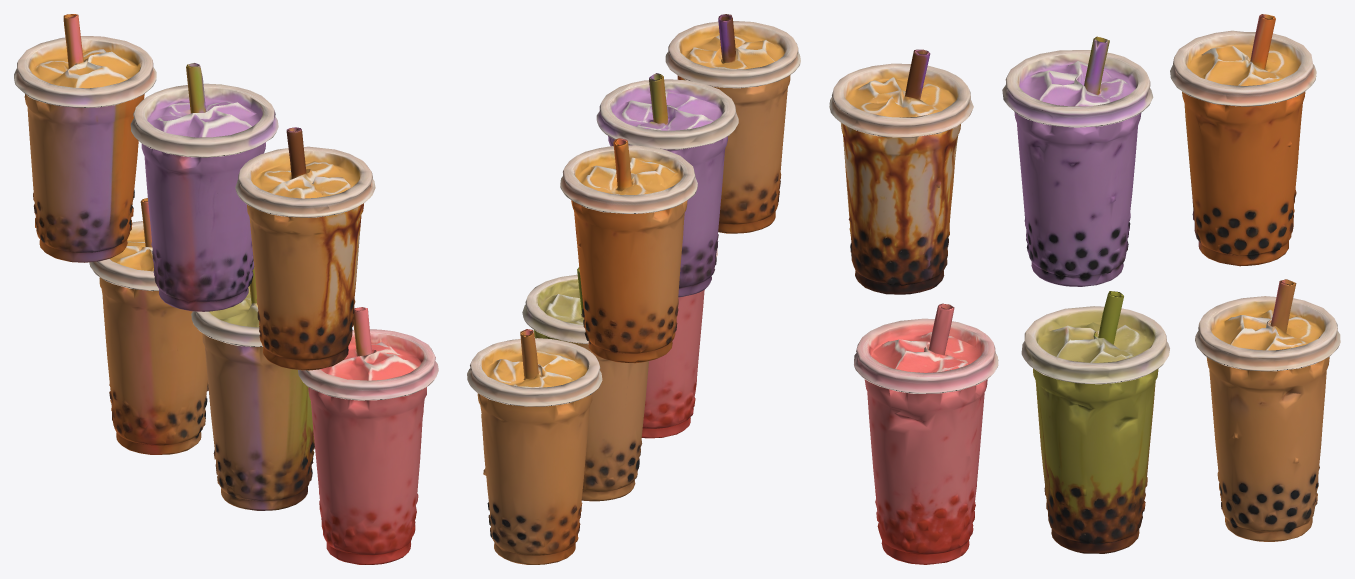
File: cup.gltf
The picture shows the model from 3 angles, left to right: view 1: azimuth 30°, elevation 25°; view 2: azimuth 150°, elevation 25°; view 3: azimuth 270°, elevation 25°; orthographic projection. The views are drawn at different scales.
Parts seen in each view (by area): view 1: tripo_node_c7b611ce-27d7-4e21-970d-34884e0c68c9_0; view 2: tripo_node_c7b611ce-27d7-4e21-970d-34884e0c68c9_0; view 3: tripo_node_c7b611ce-27d7-4e21-970d-34884e0c68c9_0.
Part boxes in pixels (x1,y1,x2,y2): tripo_node_c7b611ce-27d7-4e21-970d-34884e0c68c9_0: (14, 14, 438, 564); tripo_node_c7b611ce-27d7-4e21-970d-34884e0c68c9_0: (467, 14, 800, 564); tripo_node_c7b611ce-27d7-4e21-970d-34884e0c68c9_0: (829, 14, 1340, 564).
Bounding box in the file's own units: 0.5934 × 1 × 0.9946.
1 material, 1 textured.
